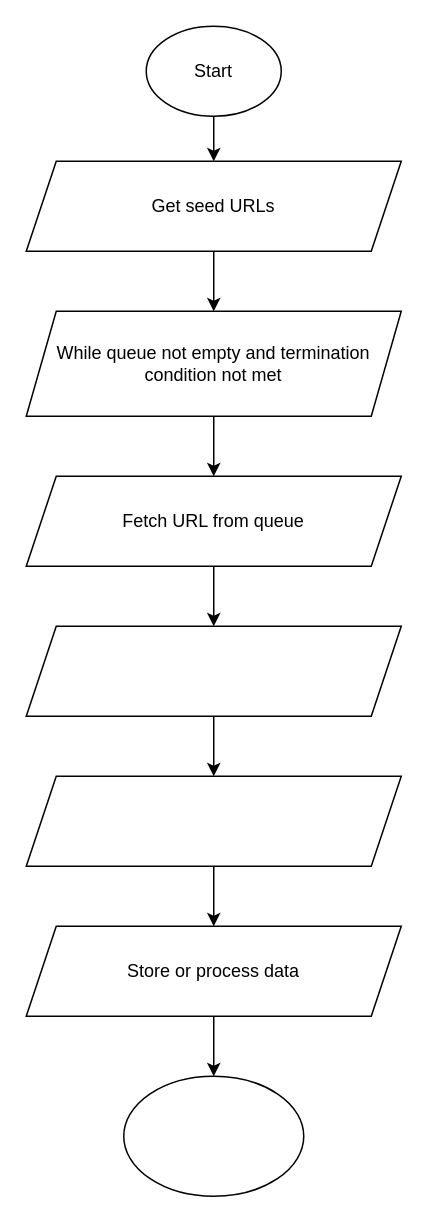
Some shapes in this 428 by 1223 pixel diagram are drawn without their labels. Here are the shapes that lost their labels. From the top down, the box of each, then its label:
(25, 625, 401, 716): Extract URLs from the page
(25, 775, 401, 866): Filter and enqueue new URLs
(122, 1075, 304, 1196): End
